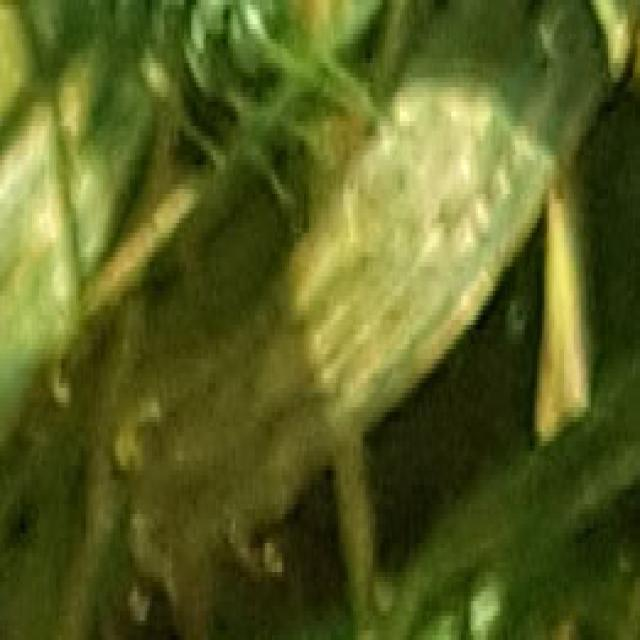Yellow Rust: (211, 39, 557, 509)
